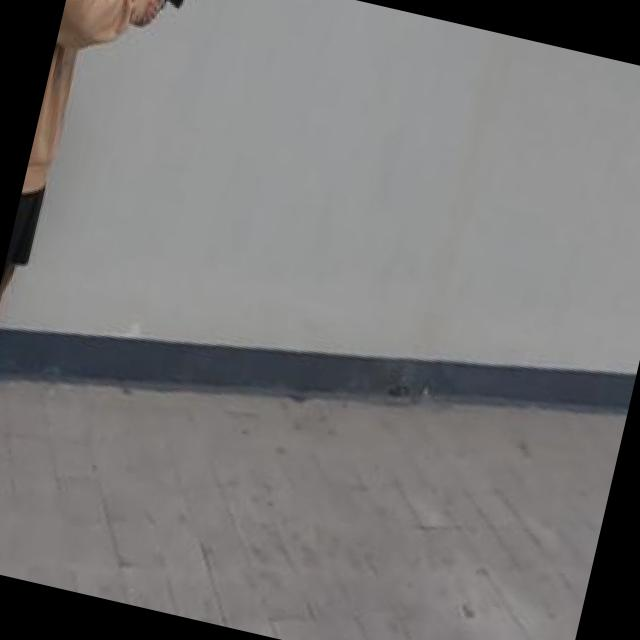Guns: (118, 0, 205, 39)
